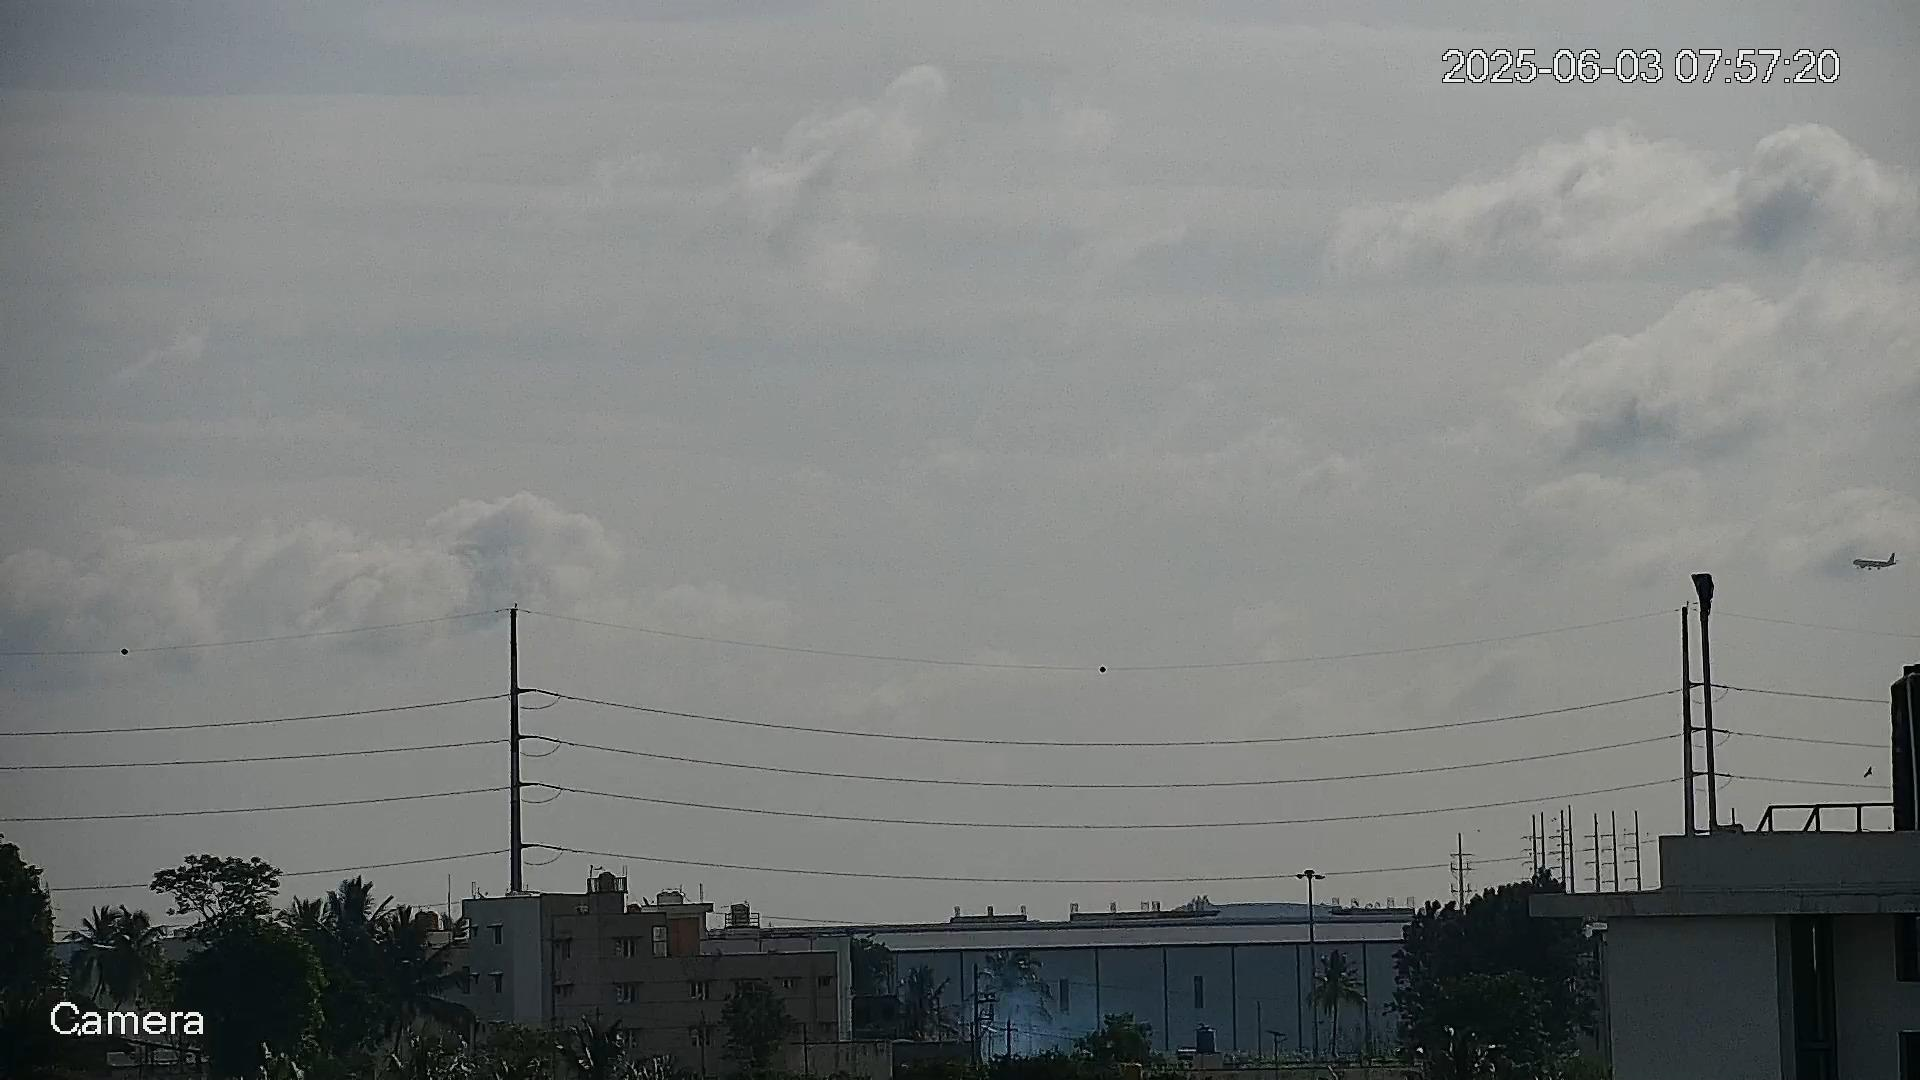Aircraft: (1853, 553, 1902, 571)
